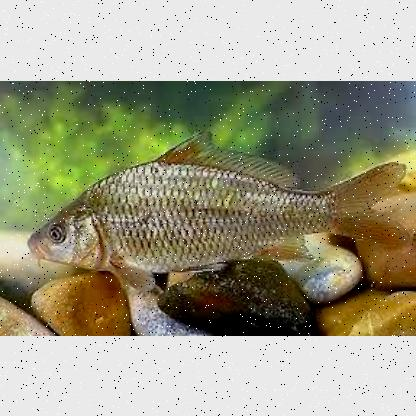ikan-mas: (25, 130, 408, 274)
